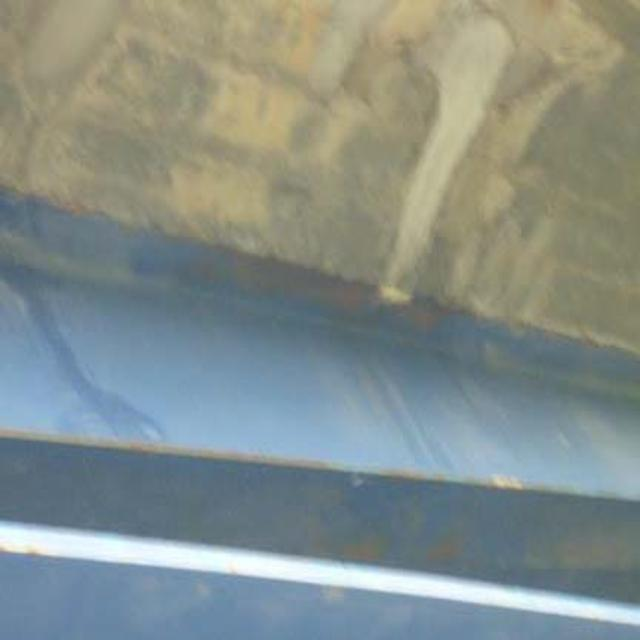freelime: (361, 21, 513, 300)
